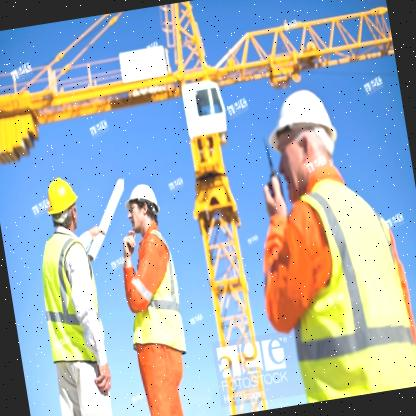capacete: (260, 82, 348, 198), (40, 172, 84, 232), (120, 178, 163, 238)
colete_refletivo: (249, 167, 415, 407), (31, 221, 110, 370), (114, 224, 190, 364)
